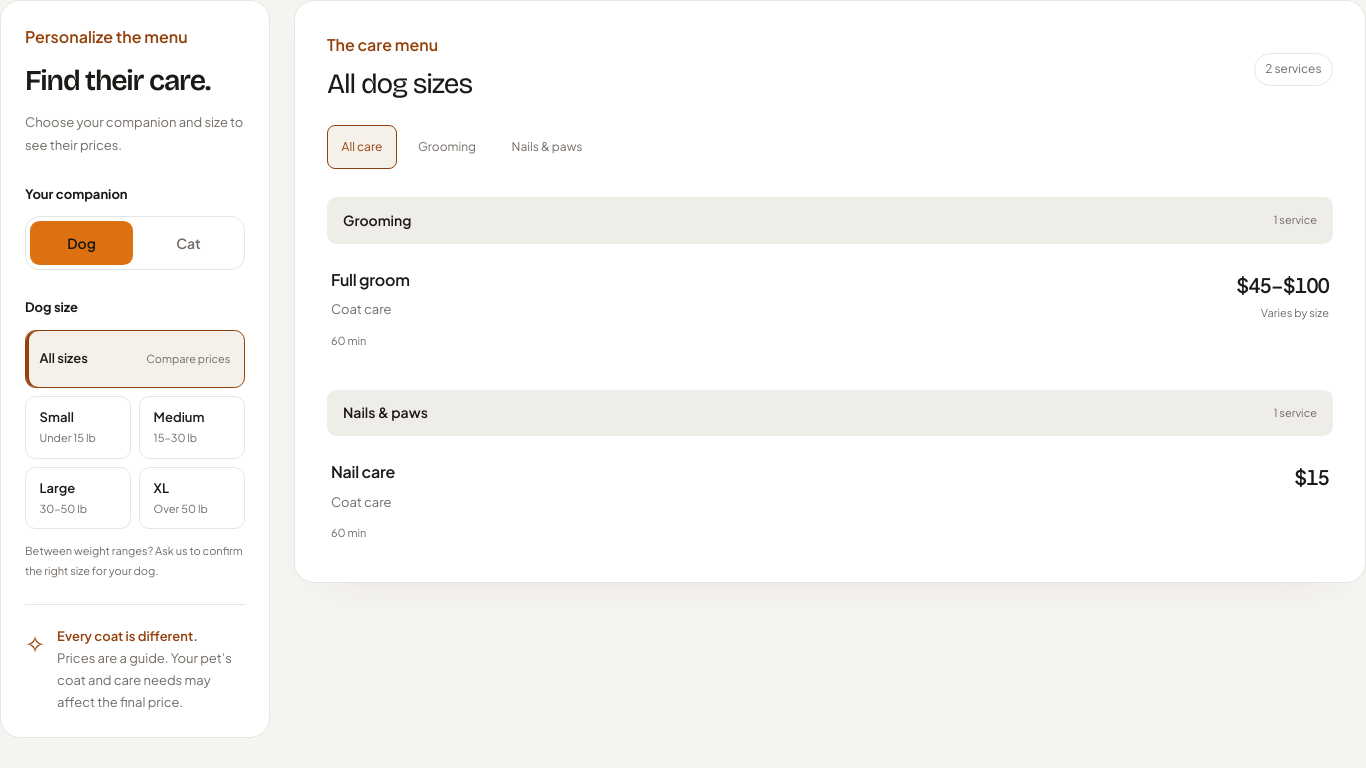
Scenario: ServicePricingExplorer › shows ranges immediately and updates size prices without hiding controls
expect the text "$45–$100" is shown: met, box [1236,272,1329,297]
Click the button "Small Under 15 lb": (78, 427) [25,396,131,459]
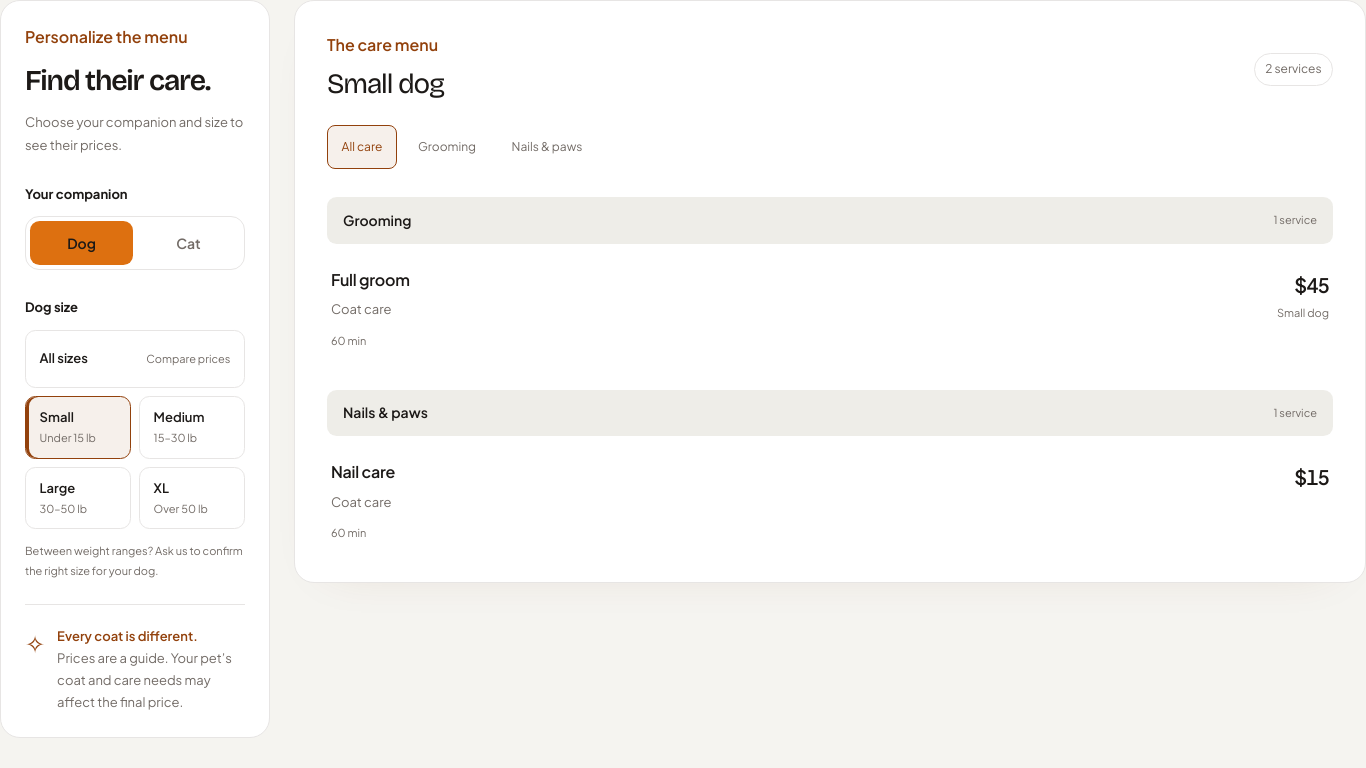
expect the text "$45" is shown: met, box [1294,272,1329,297]
expect the text "$15" is shown: met, box [1294,464,1329,489]
Click the button "Large 30–50 lb": (78, 498) [25,467,131,529]
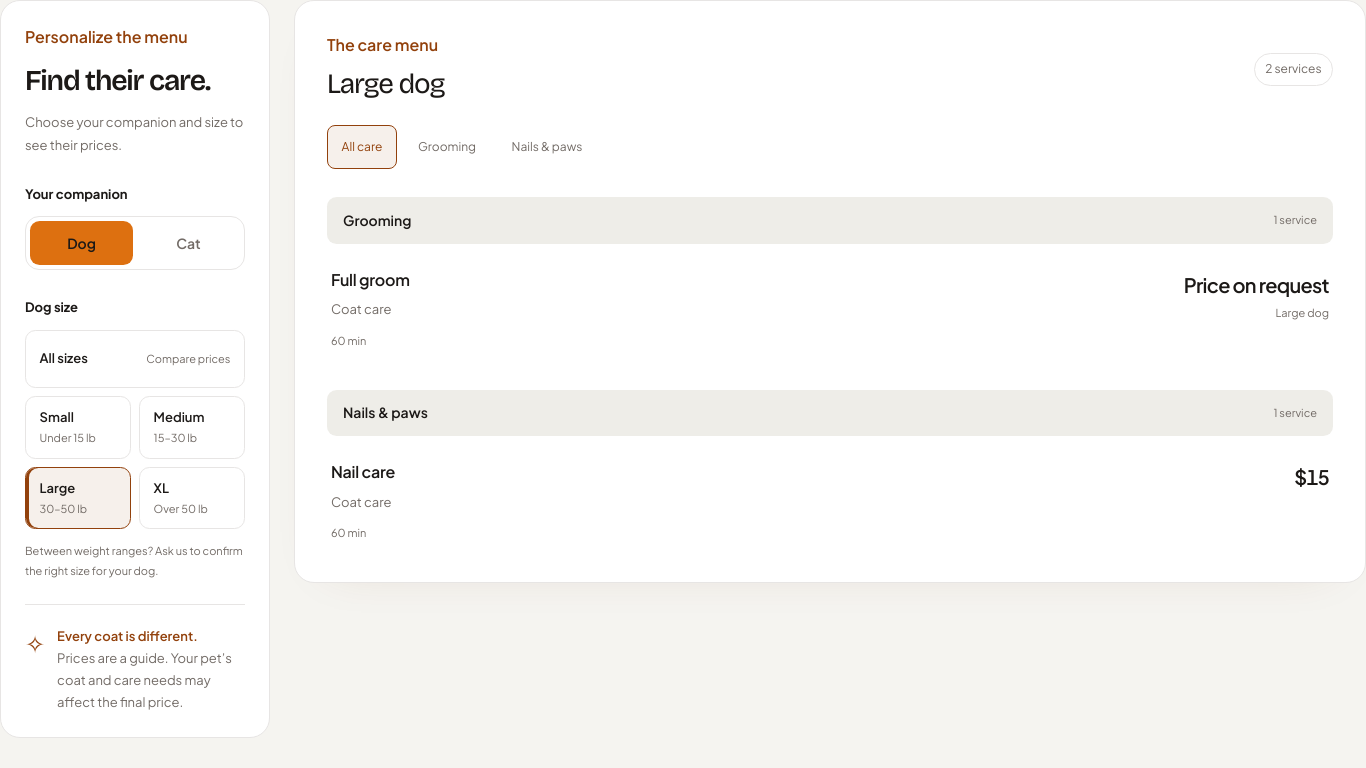
expect the text "Price on request" is shown: met, box [1184,272,1329,297]
Click the button "All sizes Compare prices": (135, 359) [25,330,245,388]
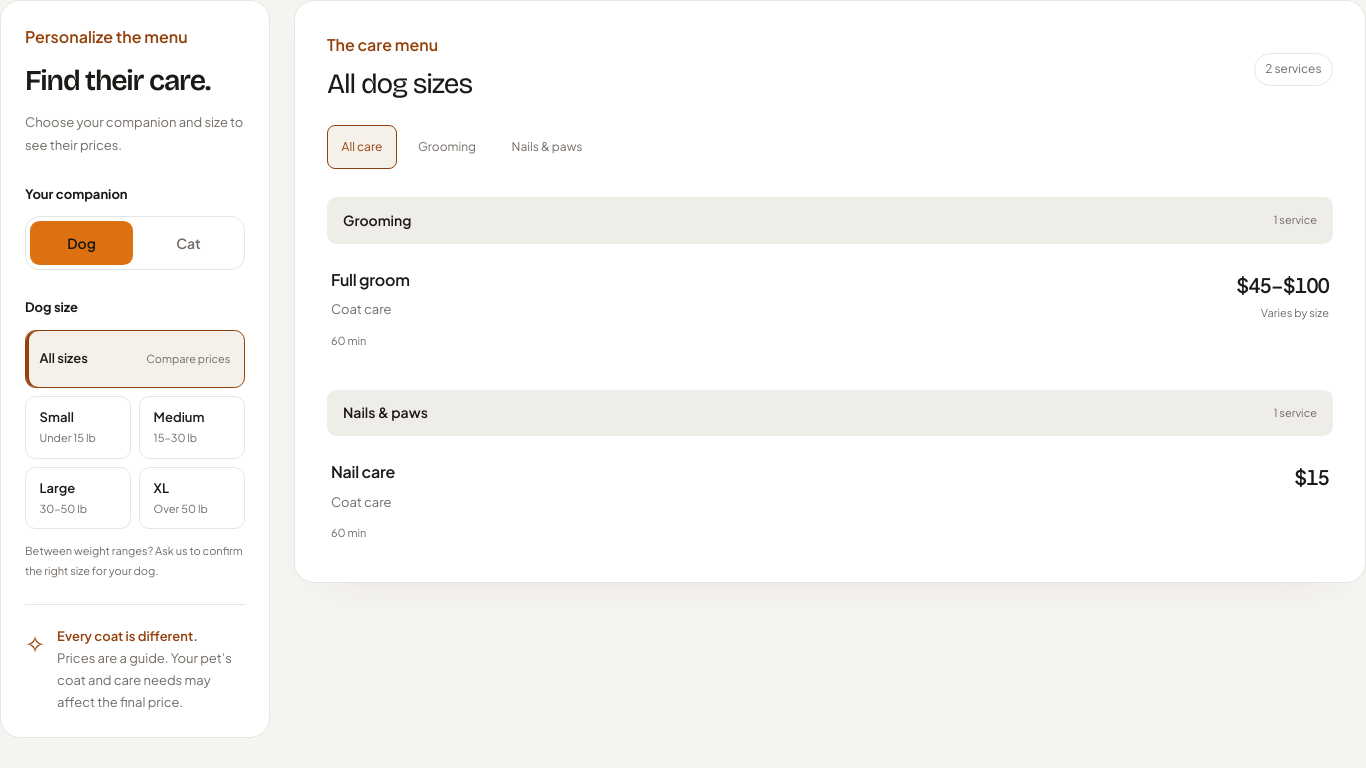
expect the text "$45–$100" is shown: met, box [1236,272,1329,297]
